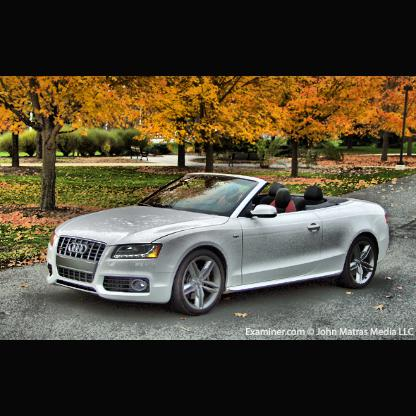Audi S5 Convertible 2012: (46, 168, 391, 316)
